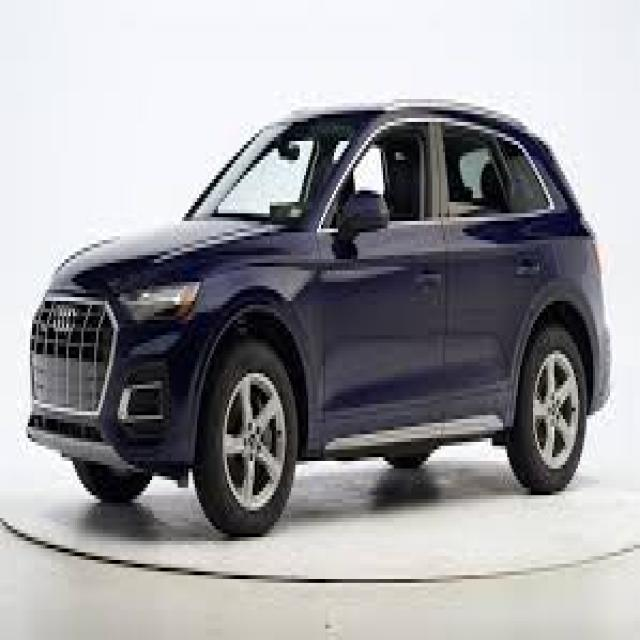SUV: (32, 100, 610, 533)
